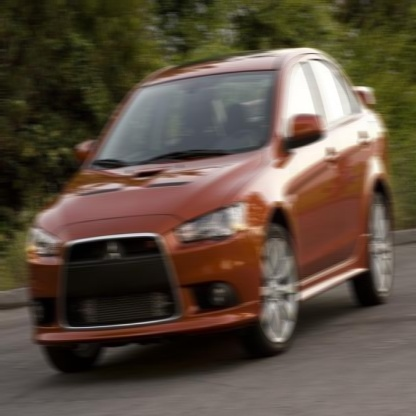Vehicle: (26, 43, 394, 378)
